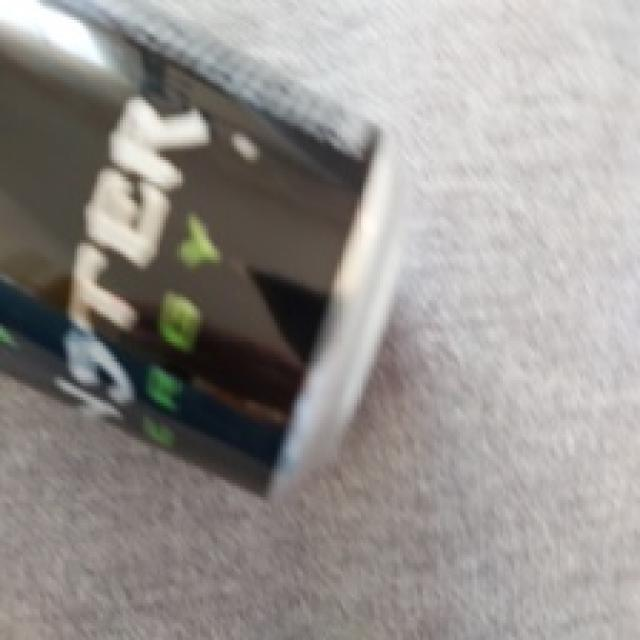recyclable: (0, 0, 414, 500)
